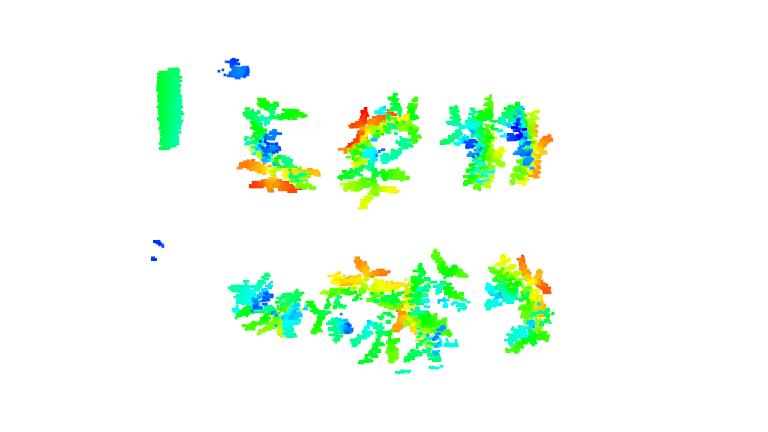chickpea: (380, 244, 468, 372), (446, 92, 549, 196), (234, 96, 321, 207), (307, 250, 394, 338), (484, 249, 554, 357), (222, 269, 303, 349), (336, 144, 407, 210), (338, 93, 424, 146)
